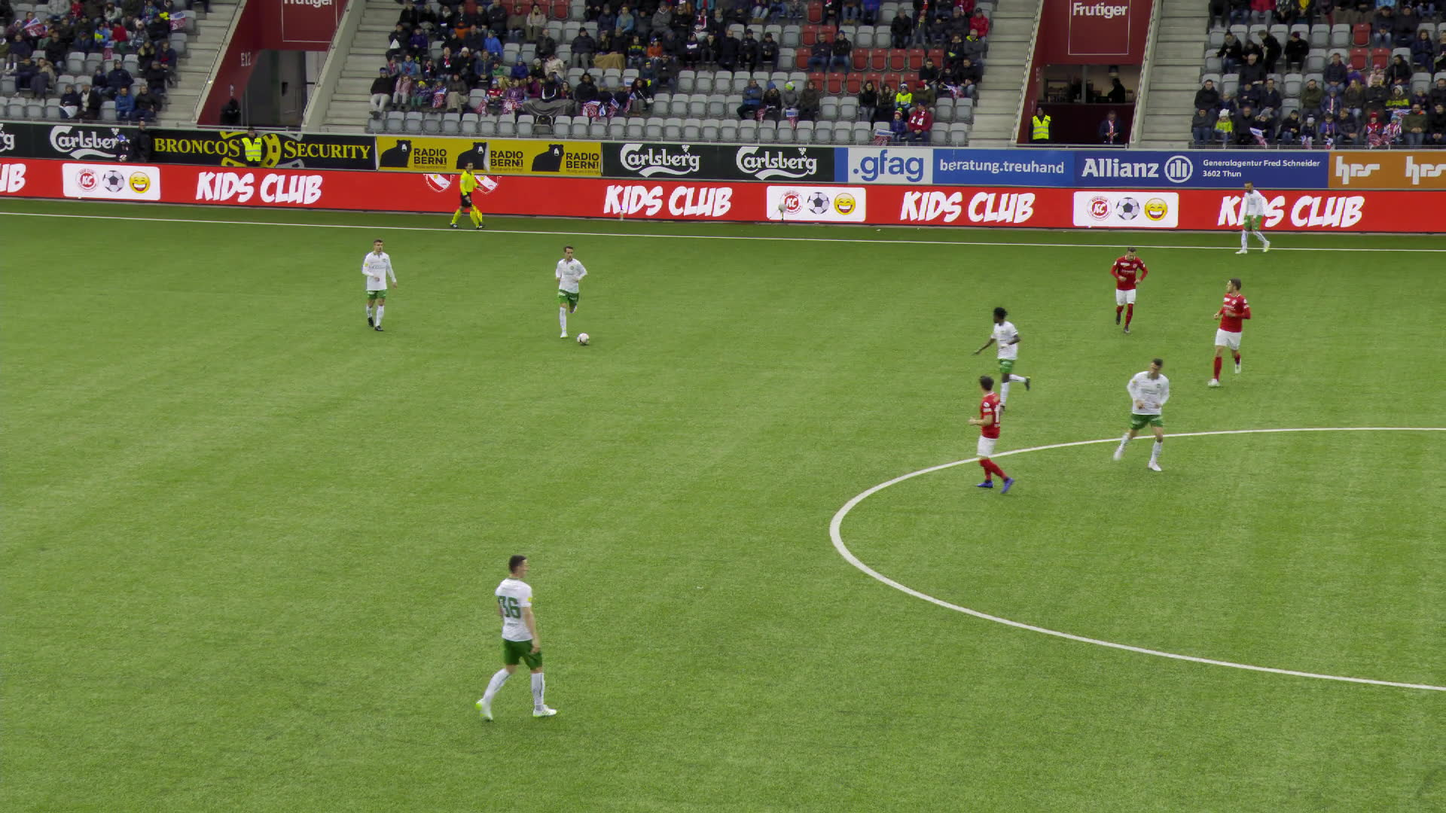ball: (576, 331, 590, 346)
player: (483, 553, 560, 721), (1112, 358, 1168, 471), (975, 305, 1032, 408), (966, 373, 1010, 495), (1208, 277, 1253, 388), (1109, 247, 1146, 334), (361, 239, 395, 332), (555, 244, 587, 336), (1234, 181, 1271, 255)
referee: (449, 162, 482, 230)
